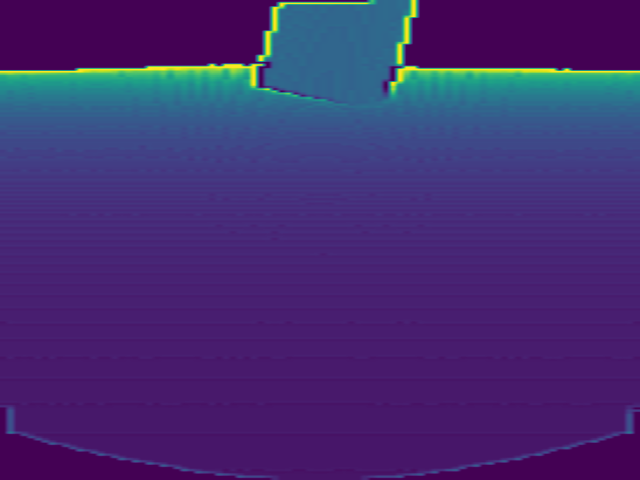cylinder: (251, 1, 416, 106)
